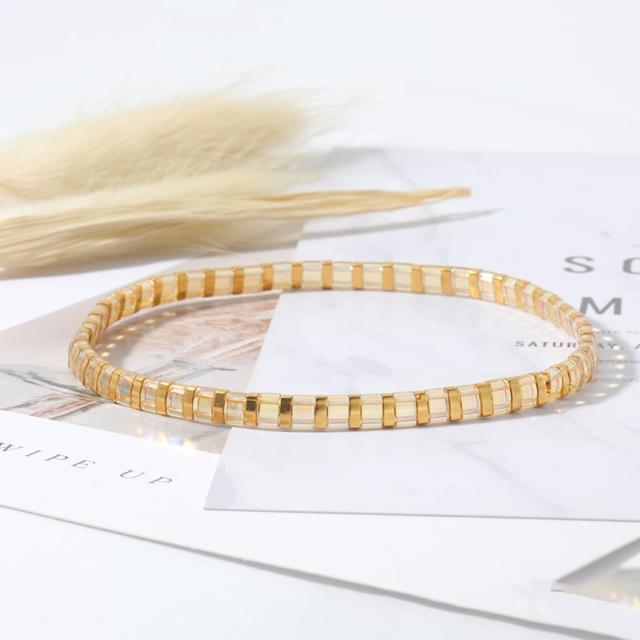bracelet: (26, 189, 640, 451)
